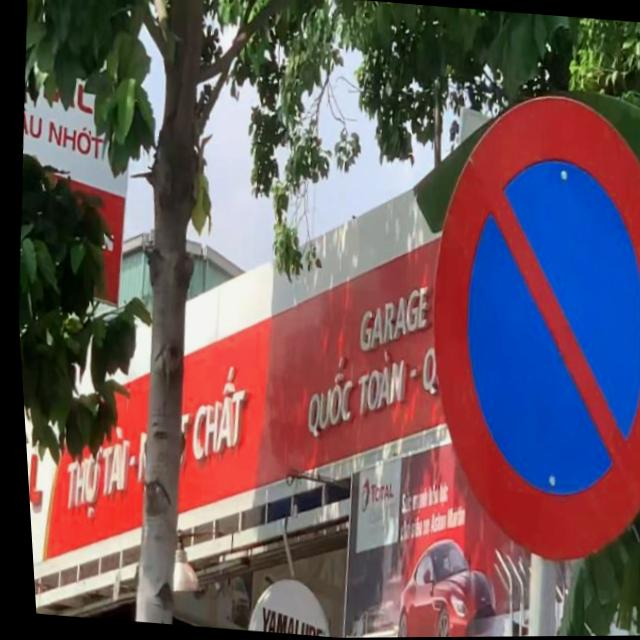Cam do xe: (390, 61, 640, 576)
